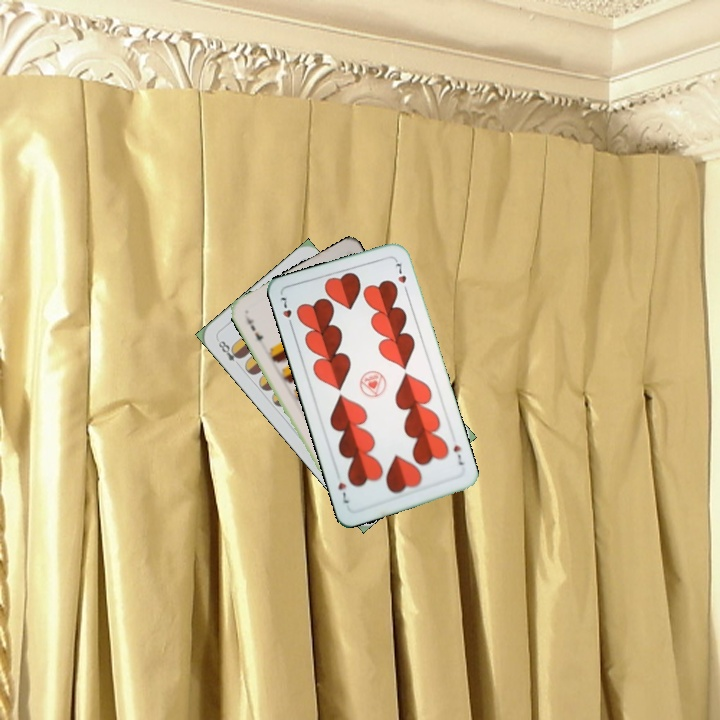E7: (242, 311, 266, 343)
E8: (213, 335, 244, 364)
H7: (276, 293, 296, 331), (449, 441, 466, 468)
